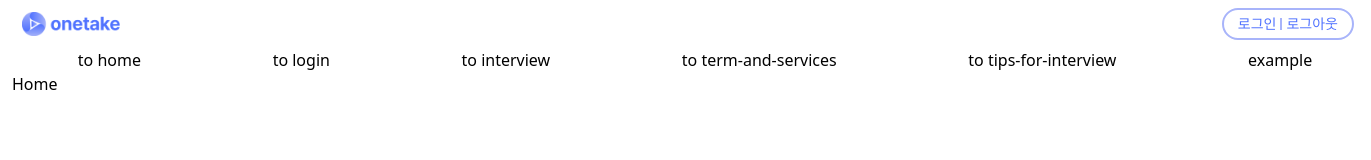
Test: 라우팅 테스트 › /login 경로로 이동할 수 있다.
Click the link "to login": (301, 60) [273, 48, 330, 72]
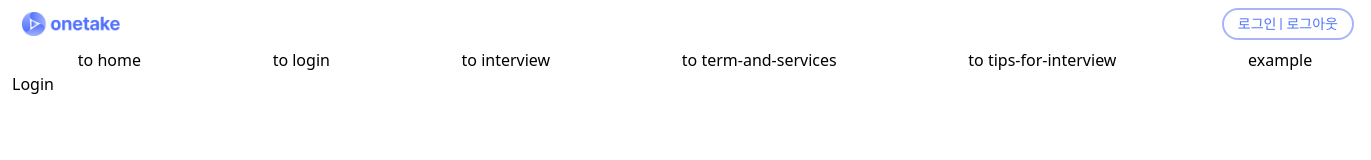
Expected: the heading reads "Login", [12, 73, 54, 95]
